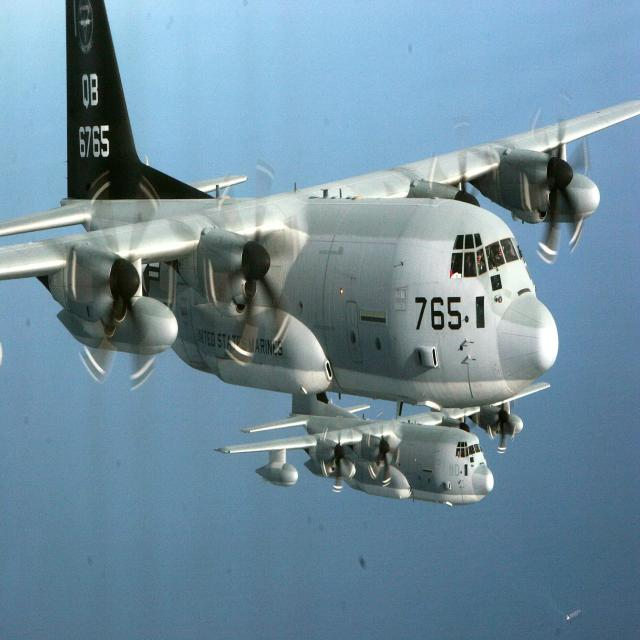MIL_Plane: (0, 160, 640, 258), (210, 61, 548, 189)
